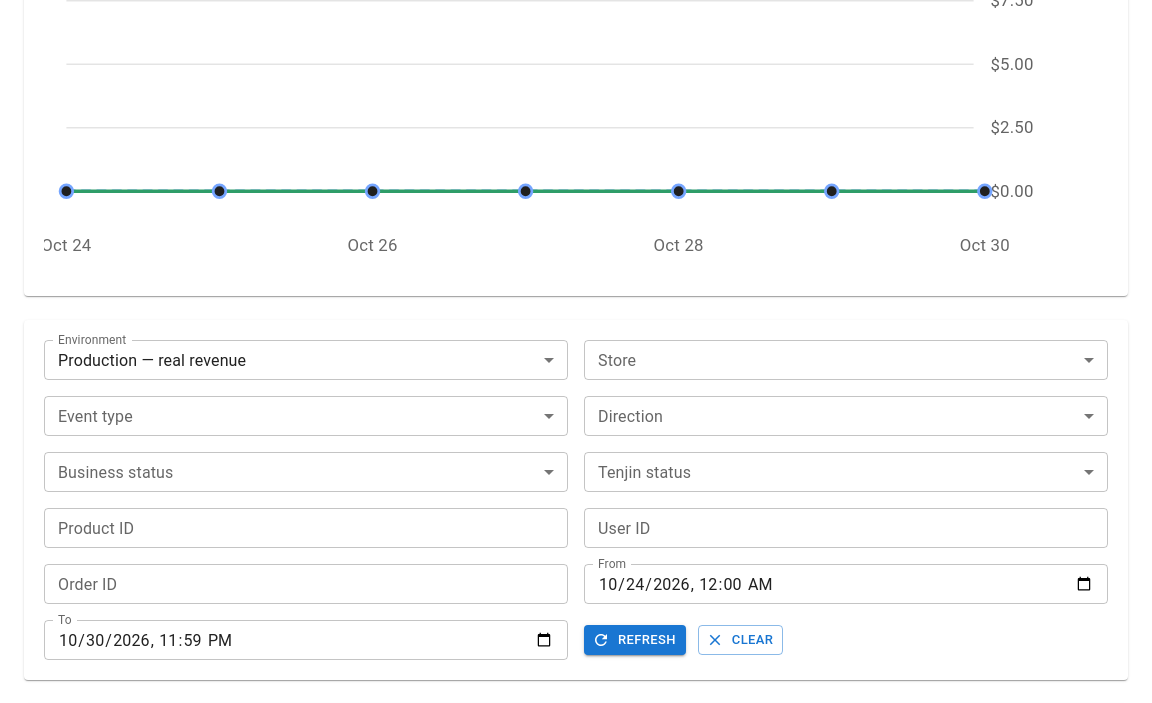
it: RevenueLedgerPage › defaults to real revenue and lets operators inspect sandbox purchases separately
The width and height of the screenshot is (1152, 703).
(page scrolled)
Press the mouse on the dropdown named "Environment": (152, 360) [58,350,246,370]
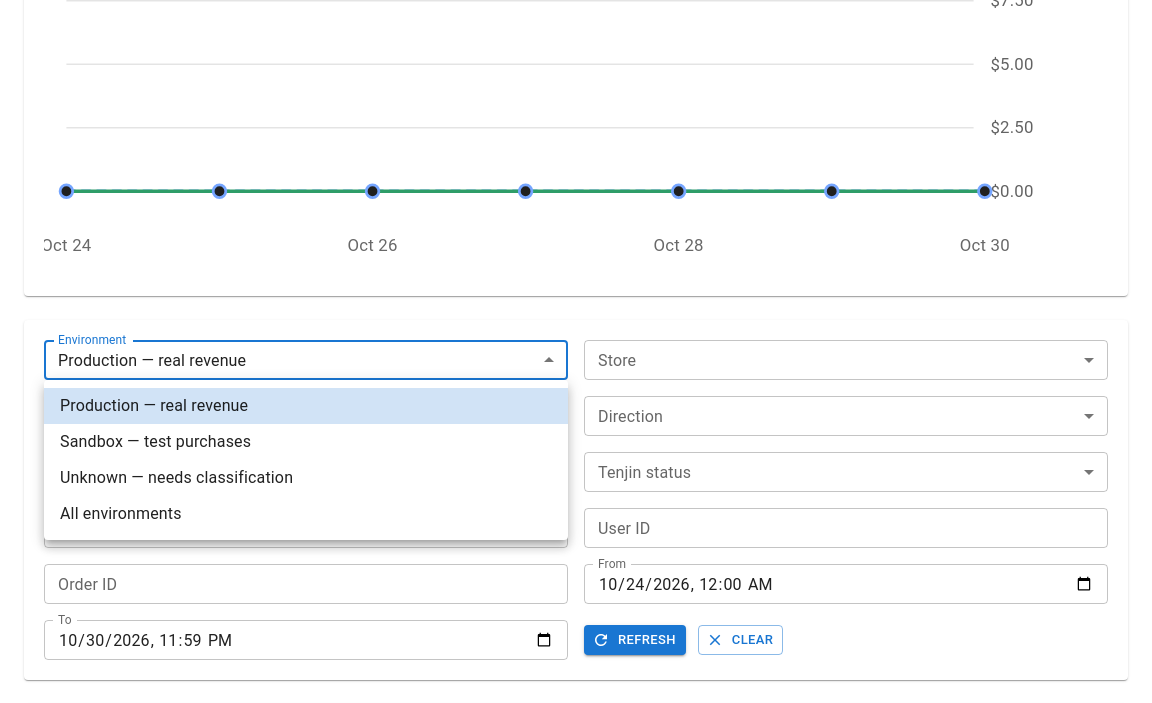
Click the option "Sandbox — test purchases": (156, 442) [60,432,251,451]
(page scrolled)
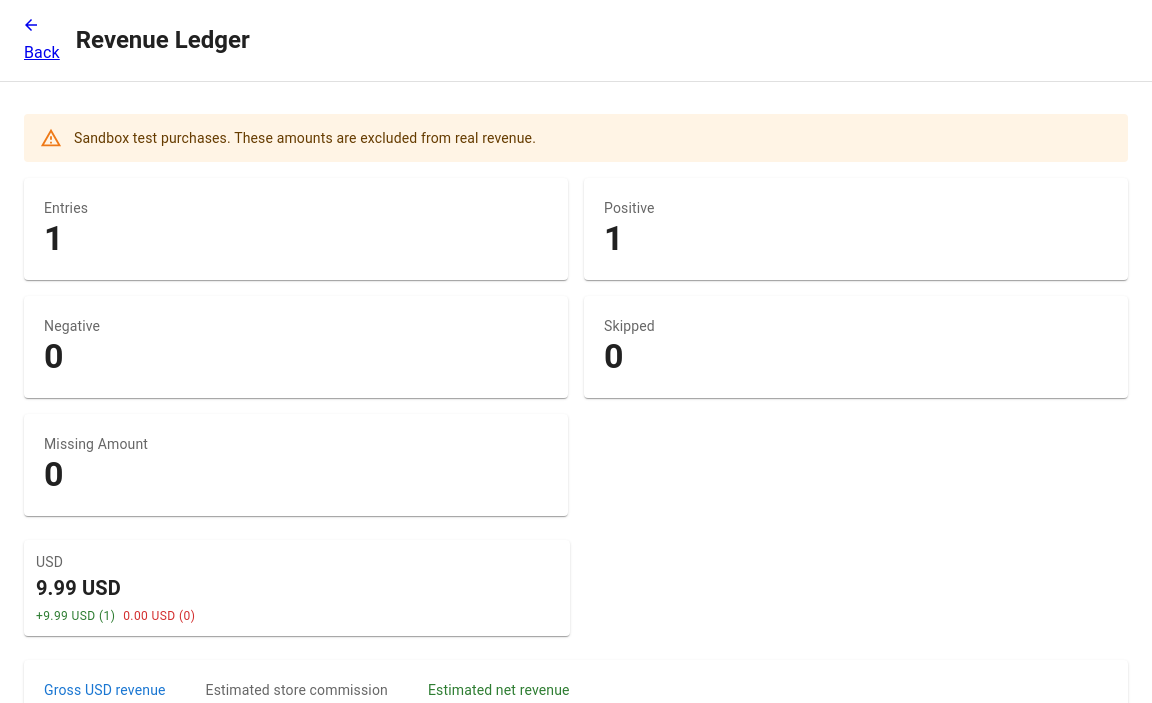
expect the text "Sandbox test purchases. These amounts are excluded from real revenue." is shown: met, box [74,130,536,146]
